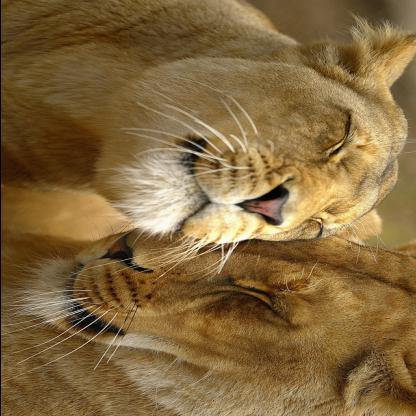lion: (32, 199, 408, 416), (107, 31, 415, 250)
